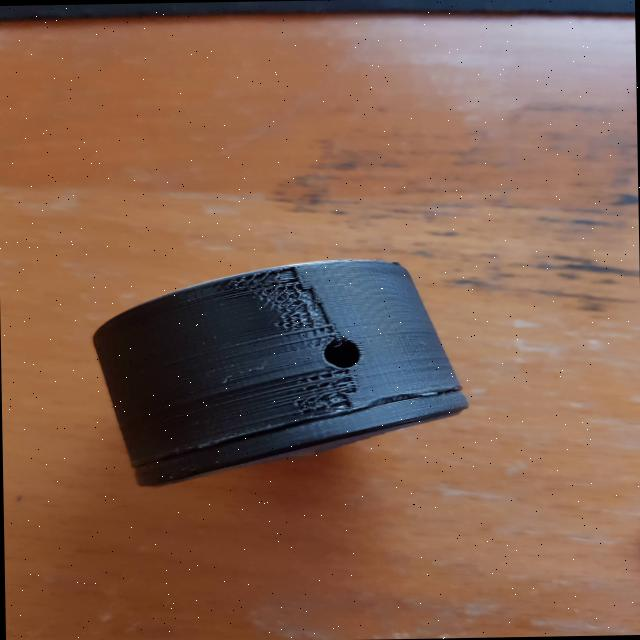cracks: (132, 379, 469, 473)
